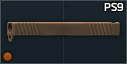Glock Polymer80 PS9 pistol slide: (0, 0, 127, 64)
